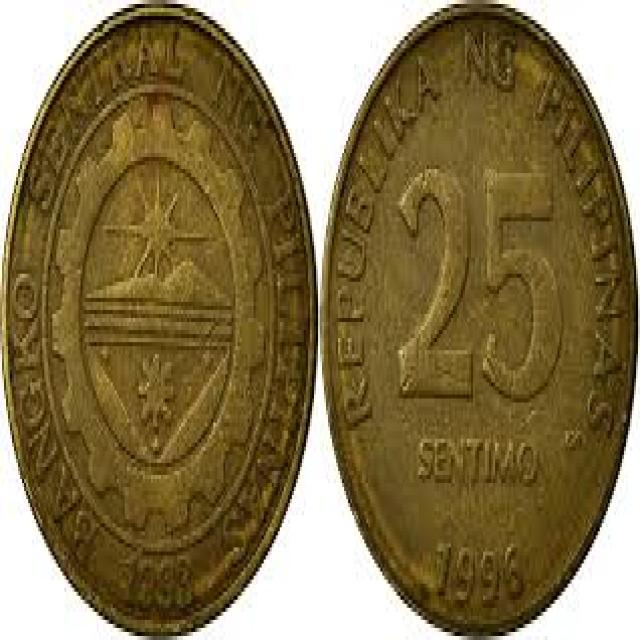25 cents-old: (322, 0, 640, 640), (4, 5, 319, 636)
